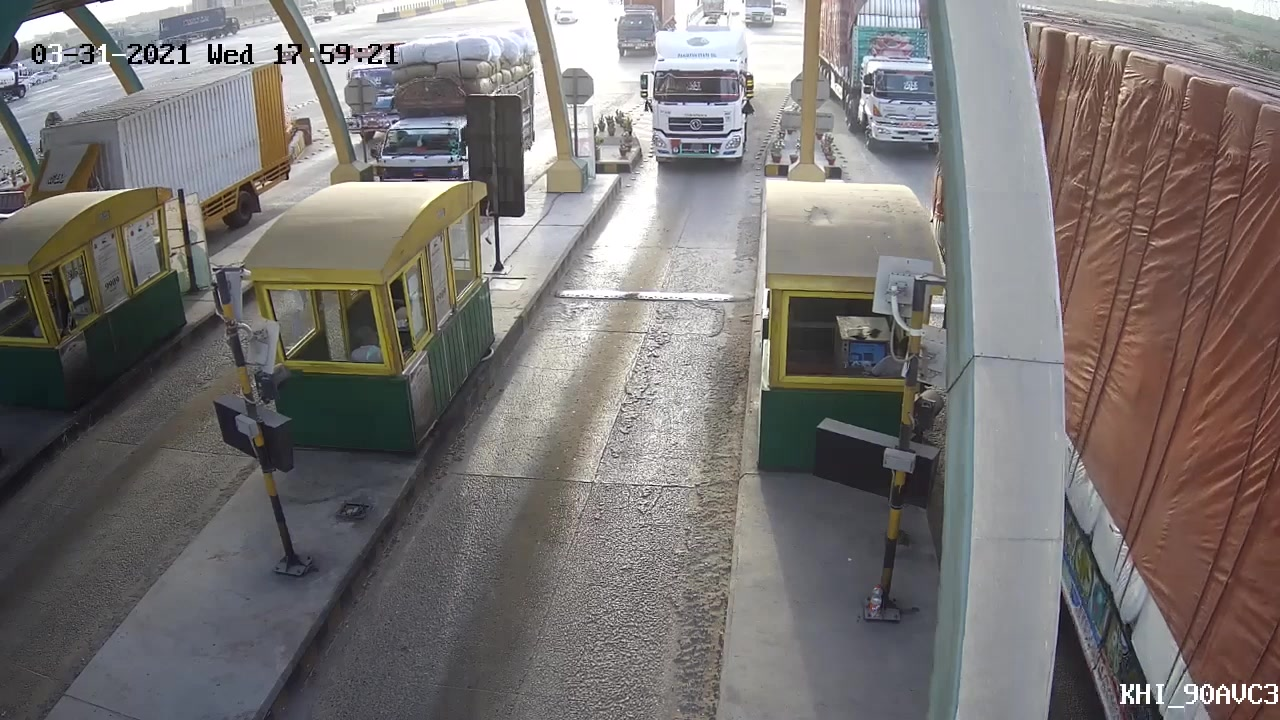F6: (628, 9, 760, 170)
